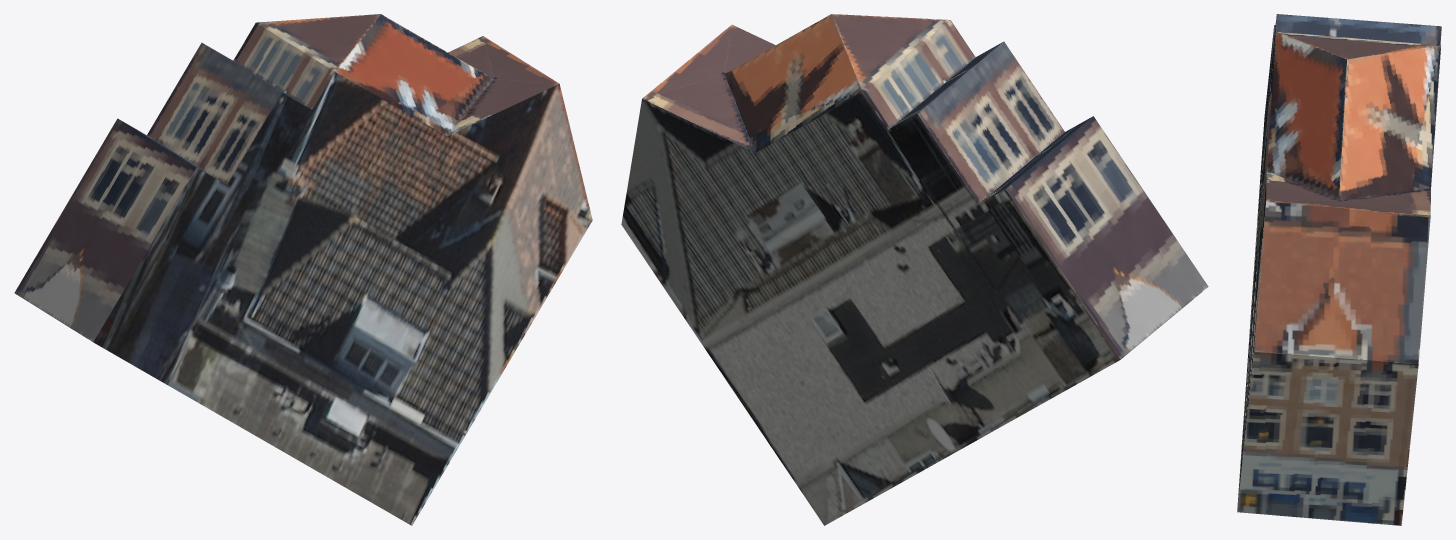
The picture shows the model from 3 angles, left to right: view 1: azimuth 30°, elevation 25°; view 2: azimuth 150°, elevation 25°; view 3: azimuth 270°, elevation 25°; orthographic projection. The views are drawn at different scales.
Visible parts, largest first — view 1: BAG_0599100000760369 (×4); view 2: BAG_0599100000760369 (×4); view 3: BAG_0599100000760369 (×3).
Part boxes in pixels (x1,y1,x2,y2): BAG_0599100000760369 (×4): (14,14,592,525); BAG_0599100000760369 (×4): (621,14,1208,525); BAG_0599100000760369 (×3): (1237,14,1441,525).
Bounding box in the file's own units: 18.91 × 17.29 × 6.73.
Materials: 1 (1 with a texture image).
